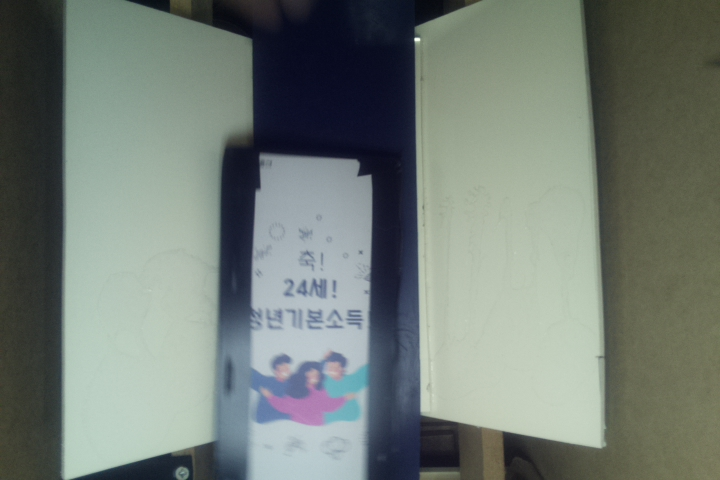book: (216, 147, 403, 480)
